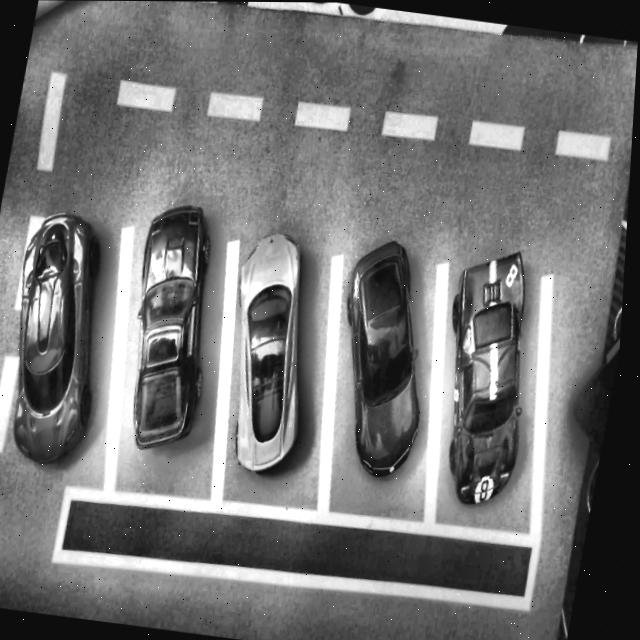car: (422, 243, 557, 510), (0, 207, 128, 470), (319, 235, 454, 482), (112, 199, 237, 456), (209, 228, 336, 477)
